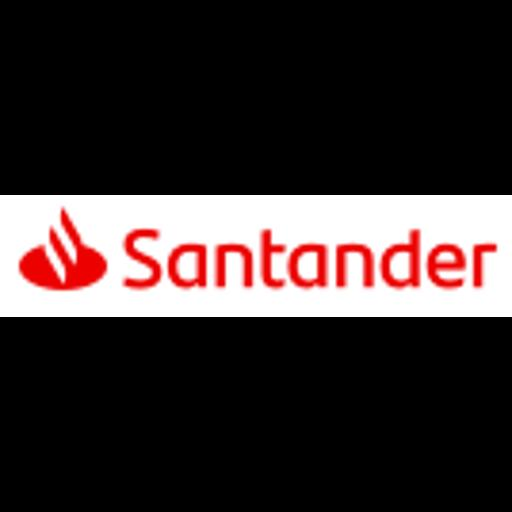Grupo Santander: (0, 195, 512, 317)
